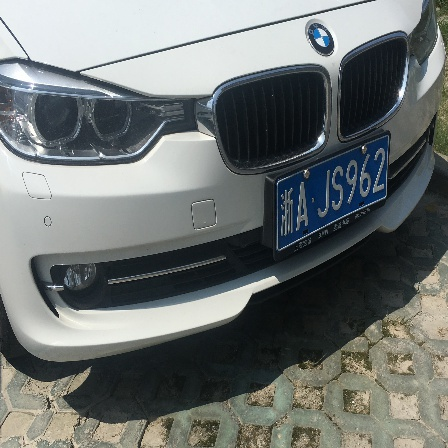plate: (277, 134, 391, 247)
